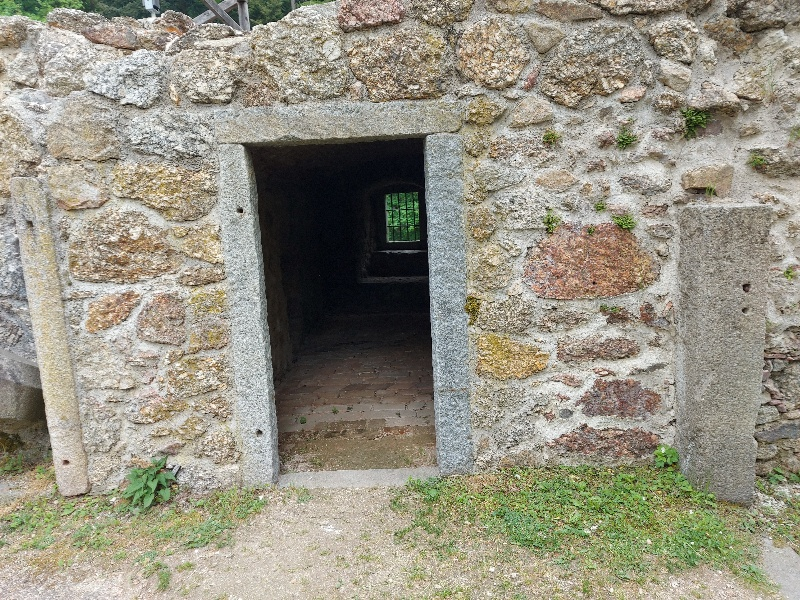door2: (199, 93, 494, 482)
